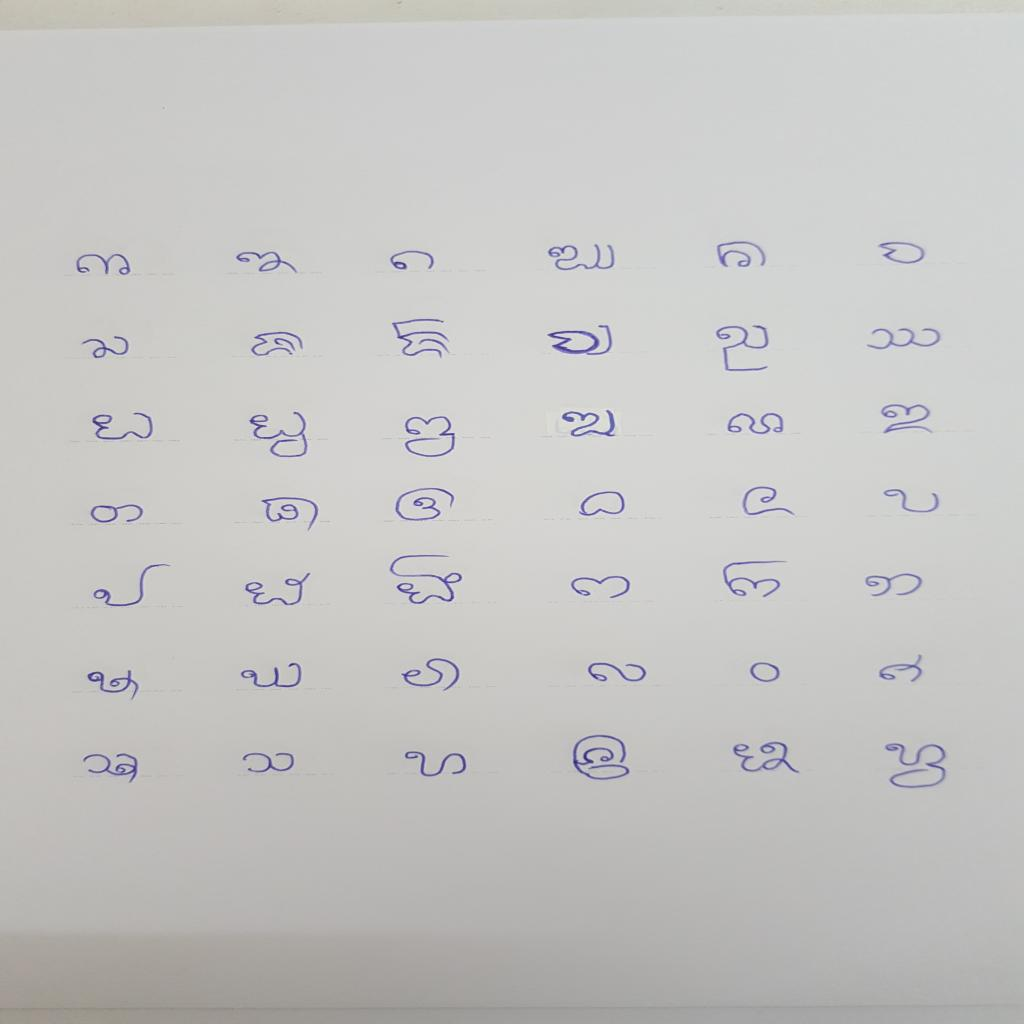LN001: (71, 252, 139, 280)
LN003: (387, 249, 442, 275)
LN004: (542, 243, 622, 274)
LN005: (711, 240, 775, 272)
LN006: (873, 240, 932, 268)
LN007: (77, 334, 136, 363)
LN008: (247, 329, 311, 360)
LN011: (710, 322, 777, 376)
LN012: (860, 325, 948, 354)
LN013: (84, 409, 162, 445)
LN014: (241, 409, 316, 462)
LN015: (397, 414, 464, 462)
LN016: (555, 408, 624, 442)
LN018: (875, 401, 942, 440)
LN019: (85, 501, 151, 527)
LN020: (256, 495, 327, 536)
LN021: (390, 485, 462, 526)
LN022: (574, 489, 631, 520)
LN024: (877, 486, 947, 516)
LN025: (89, 561, 178, 611)
LN026: (240, 570, 317, 610)
LN028: (565, 573, 636, 603)
LN029: (718, 557, 798, 602)
LN030: (861, 572, 928, 602)
LN031: (80, 668, 145, 705)
LN032: (236, 660, 308, 692)
LN033: (396, 656, 469, 695)
LN034: (583, 661, 653, 686)
LN035: (744, 660, 788, 687)
LN036: (875, 652, 931, 687)
LN037: (76, 752, 145, 788)
LN038: (236, 750, 302, 777)
LN039: (398, 748, 473, 781)
LN041: (728, 740, 807, 778)
LN042: (879, 740, 954, 793)
